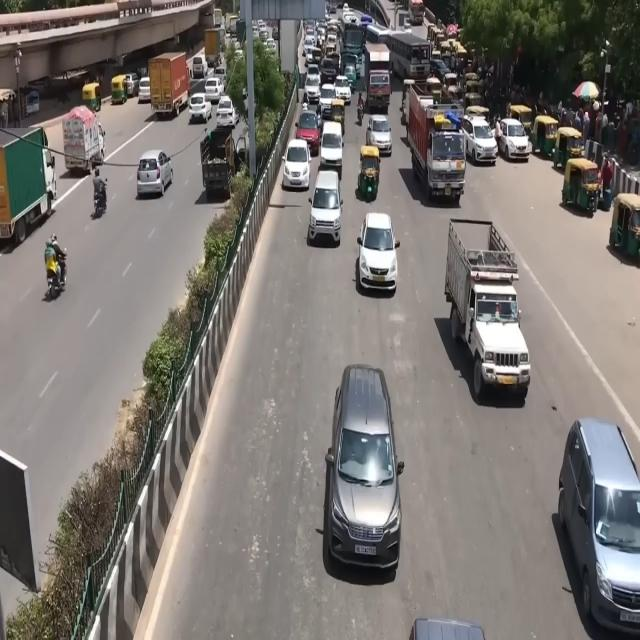auto: (562, 156, 600, 217), (608, 192, 640, 258), (551, 125, 584, 173), (528, 115, 560, 160), (357, 144, 381, 200), (508, 103, 534, 137), (82, 82, 102, 113), (110, 74, 130, 104), (465, 105, 490, 126), (465, 90, 485, 112), (443, 72, 459, 98), (426, 74, 442, 100), (464, 72, 479, 87)
bike-auto: (44, 242, 67, 298), (92, 168, 107, 215), (354, 86, 368, 136)
